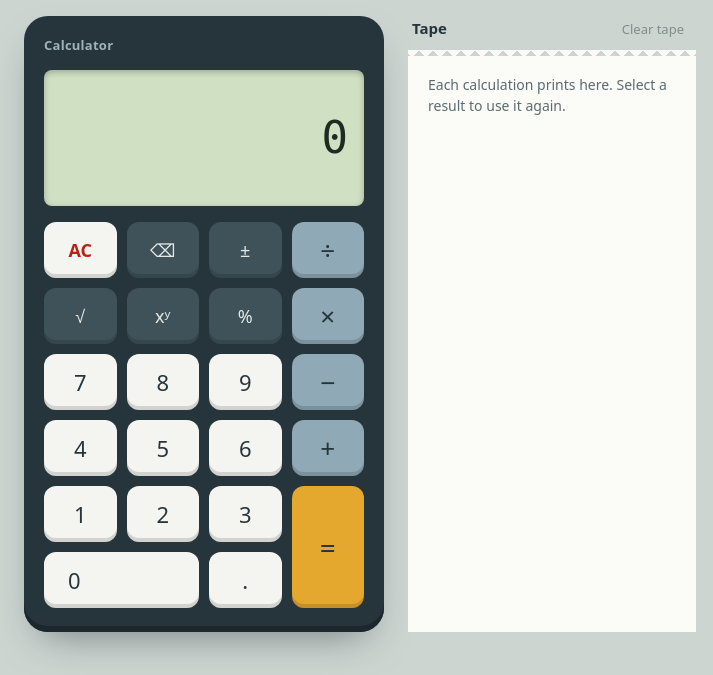
it: Calculator › adds two numbers through the API and prints the tape
The image size is (713, 675).
Click the button "1". click: click(80, 514)
box: 44,486 -> 116,542
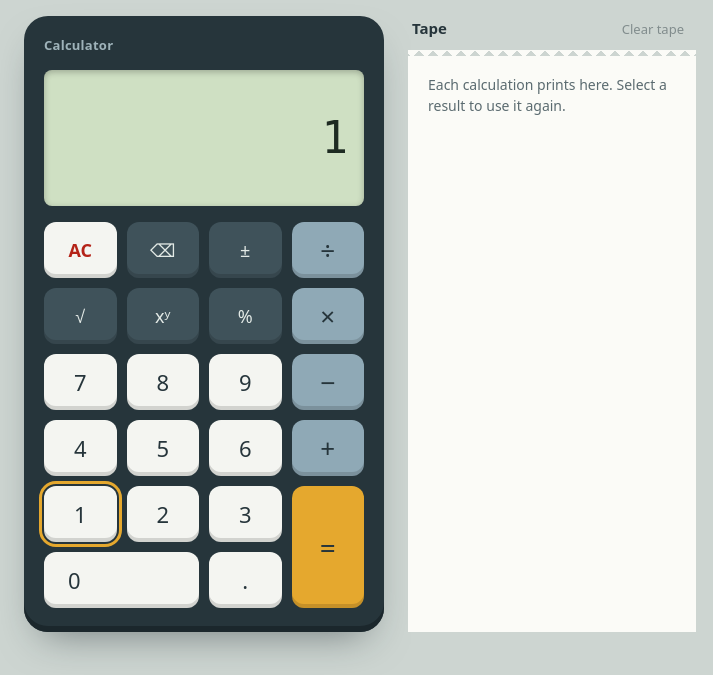
Click the button "2". click: click(163, 514)
box: 126,486 -> 199,542
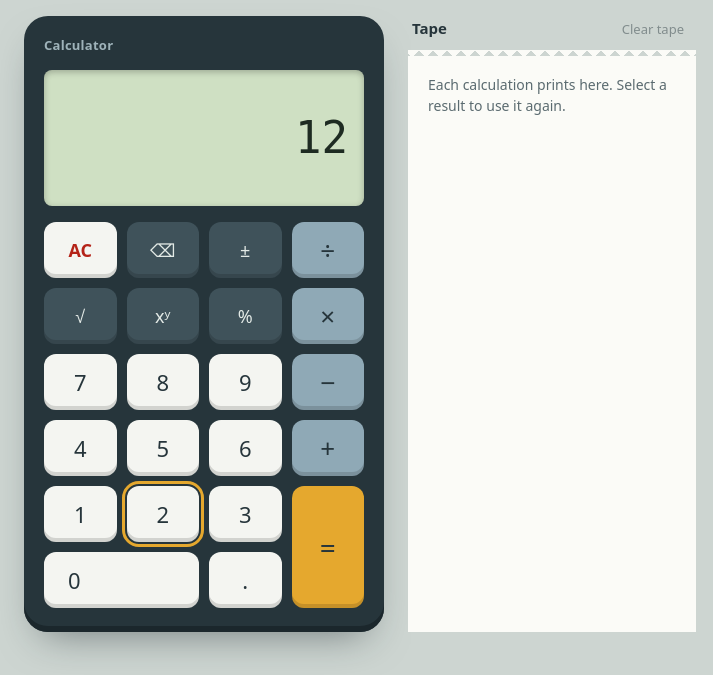
Click the button named "Add". click: click(328, 448)
box: 292,420 -> 364,476
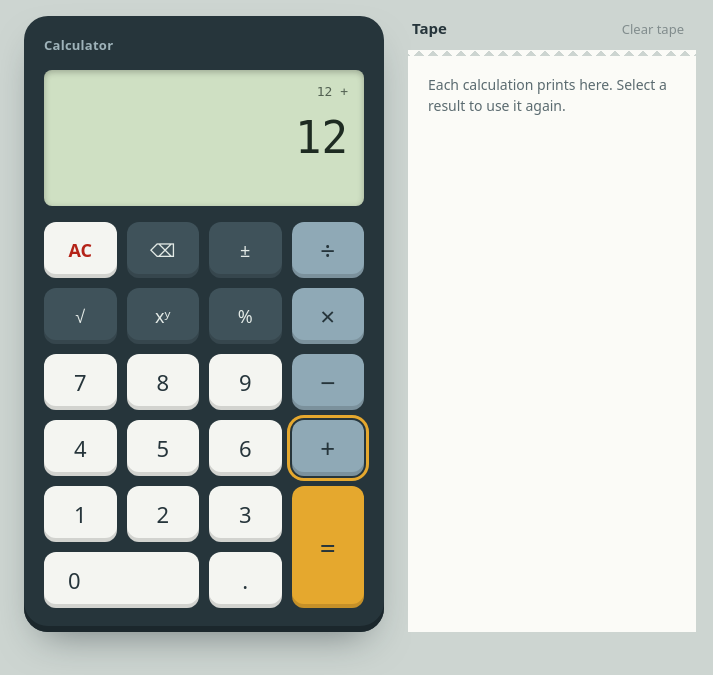
Click the button "3". click: click(245, 514)
box: 209,486 -> 282,542
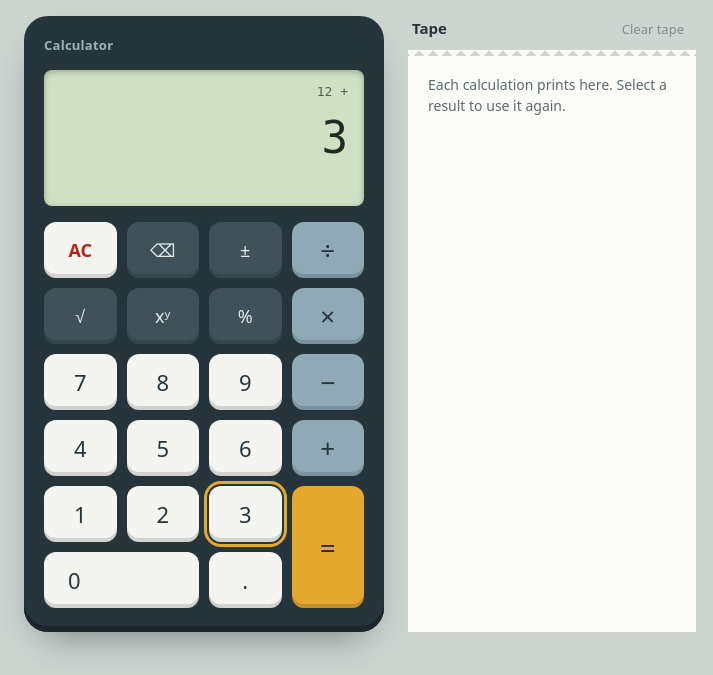
Click the button named "Equals". click: click(328, 547)
box: 292,486 -> 364,608
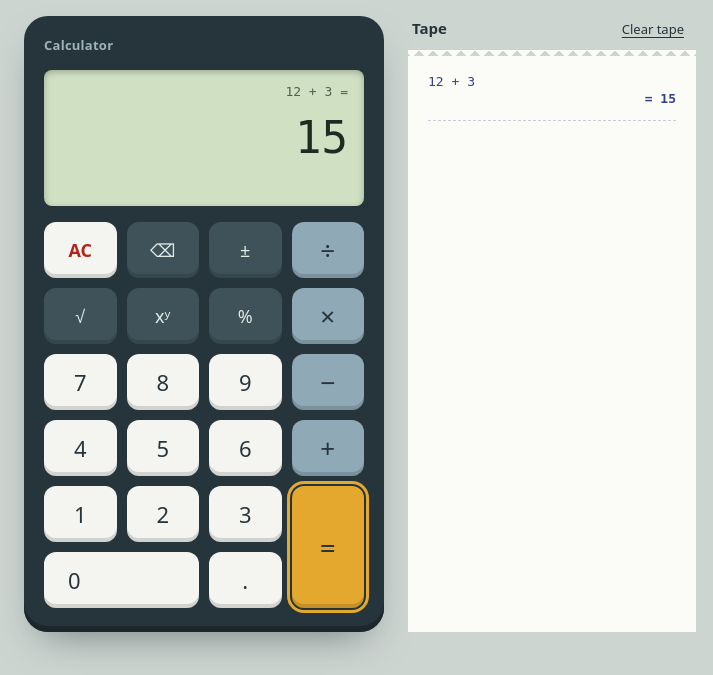
Expected: the text named "Result" reads "15", 295,112 -> 348,163
Expected: the text with test id "expression" reads "12 + 3 =", 285,84 -> 348,99
Expected: the text "12 + 3" is shown, 428,74 -> 475,89
